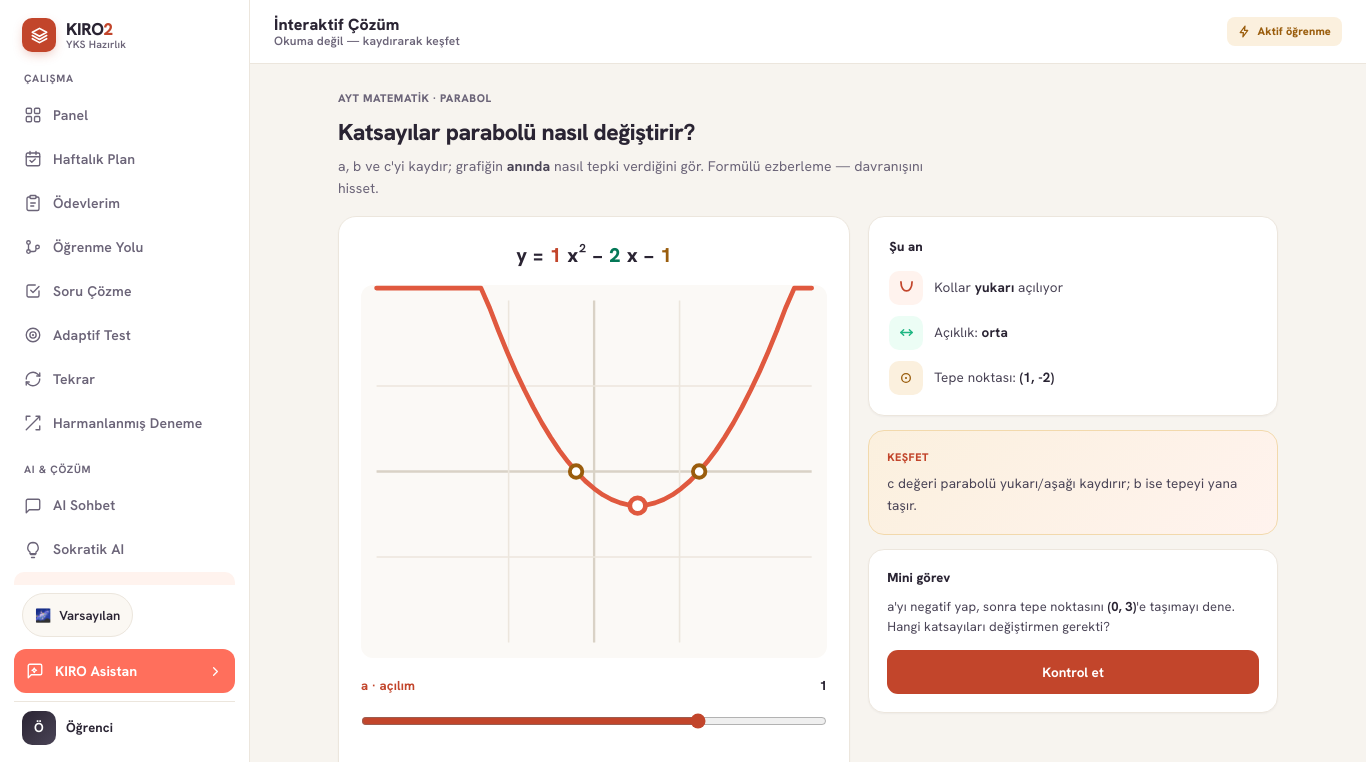
Test: InteraktifCozumPage › mini görev: yanlış durumda nazik yönlendirme, hedefte başarı
The image size is (1366, 762).
Varsayılan (tepe 1,-2) → henüz değil
Click the button "Kontrol et": point(1073, 672) [887,650,1259,694]
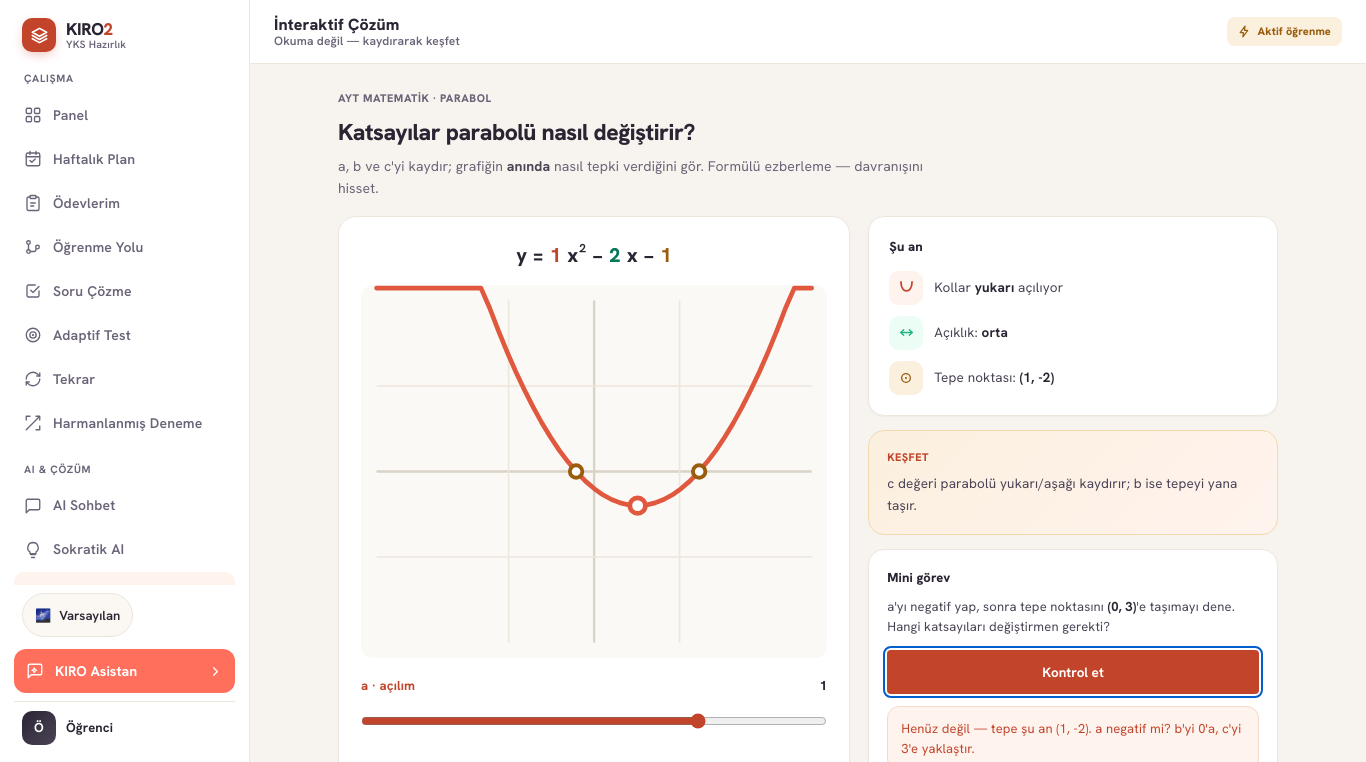
Expected: the text "Henüz değil" is shown, [901,720,1241,757]
Set the slider named "a katsayısı — açılım" to "-1": point(482, 720) [361,698,827,742]
(page scrolled)
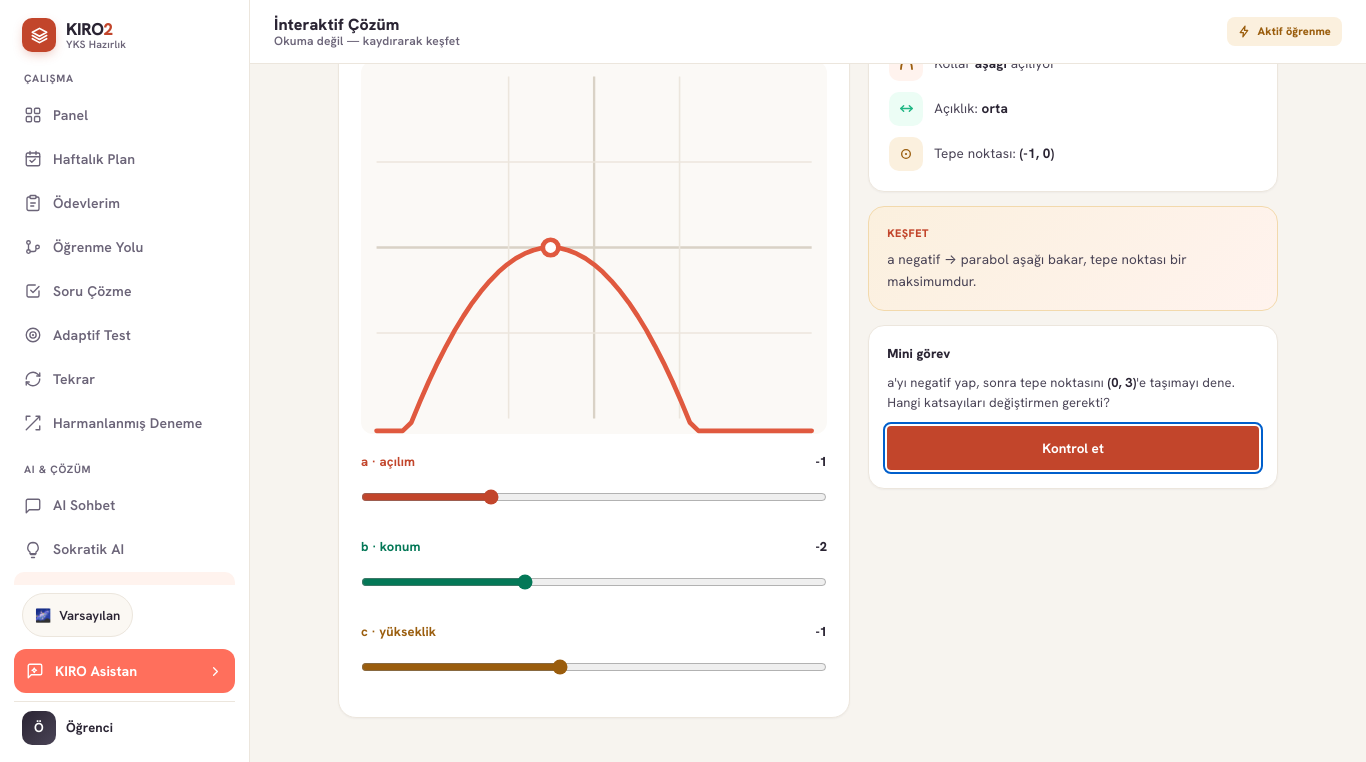
Set the slider named "b katsayısı — konum" to "0": point(594, 582) [361,560,827,604]
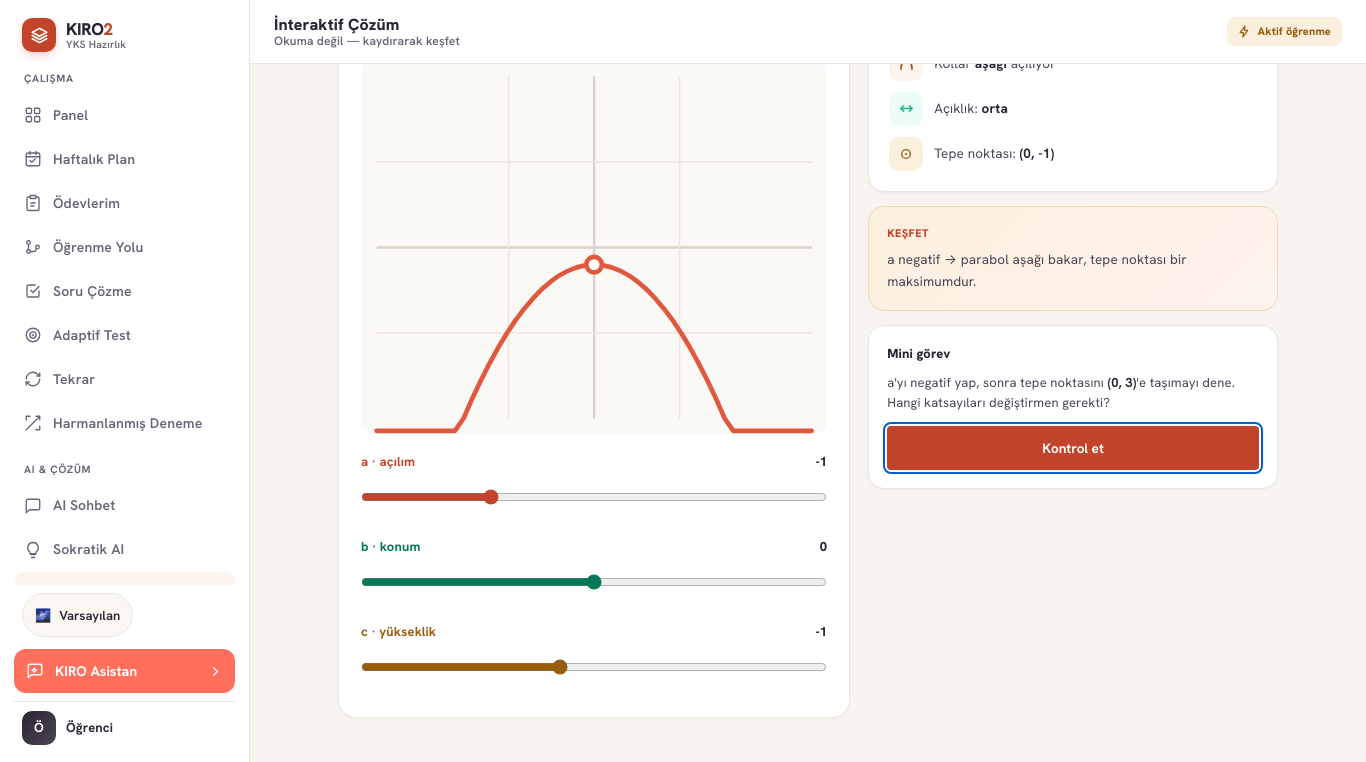
Set the slider named "c katsayısı — yükseklik" to "3": point(707, 667) [361,645,827,689]
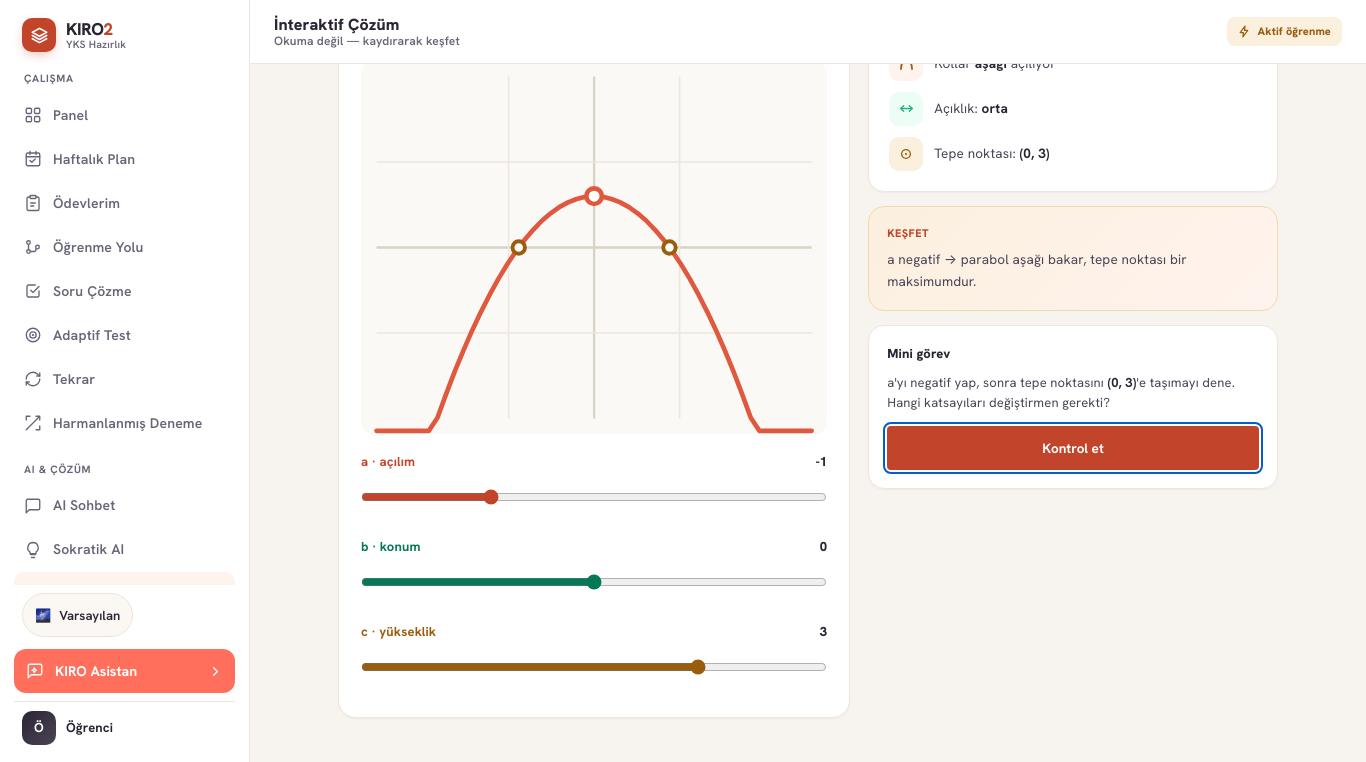
Click the button "Kontrol et": point(1073, 448) [887,426,1259,470]
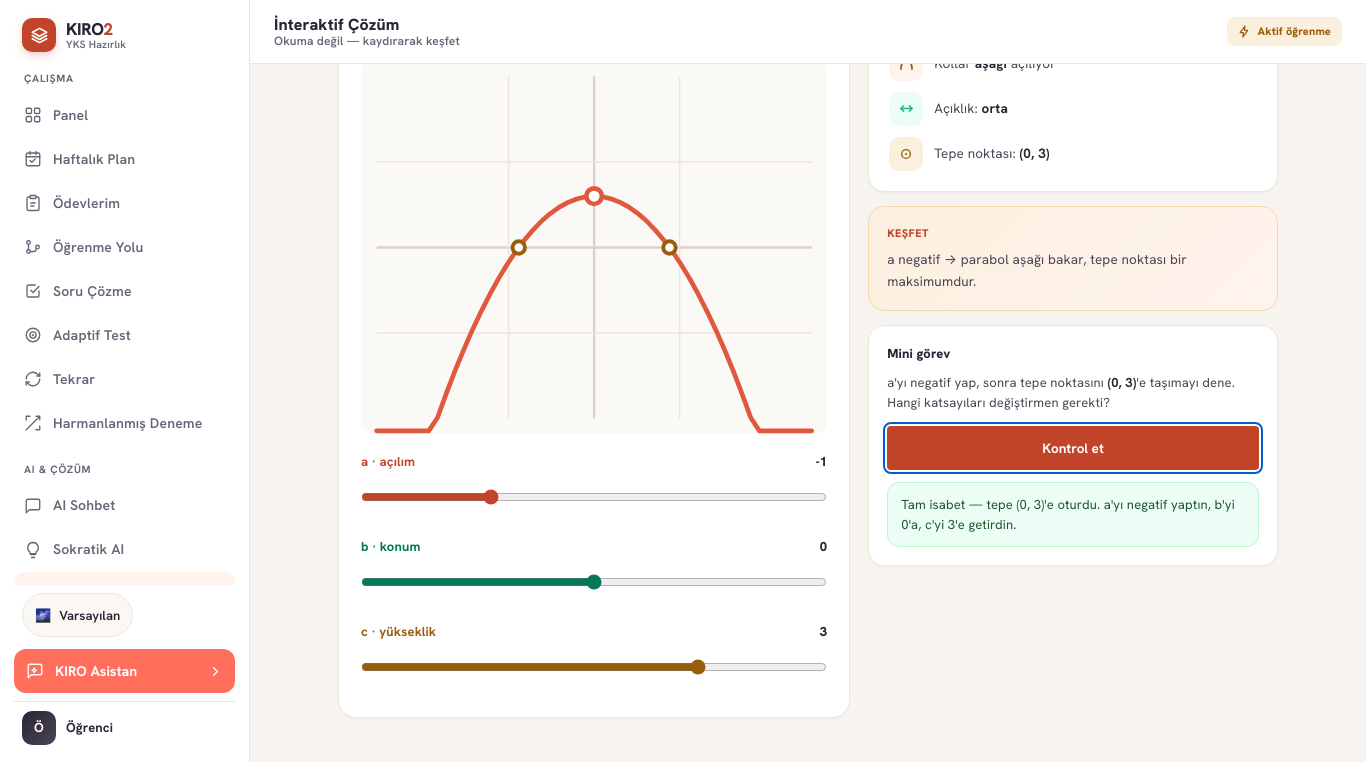
Expected: the text "Tam isabet" is shown, [901,496,1235,533]
